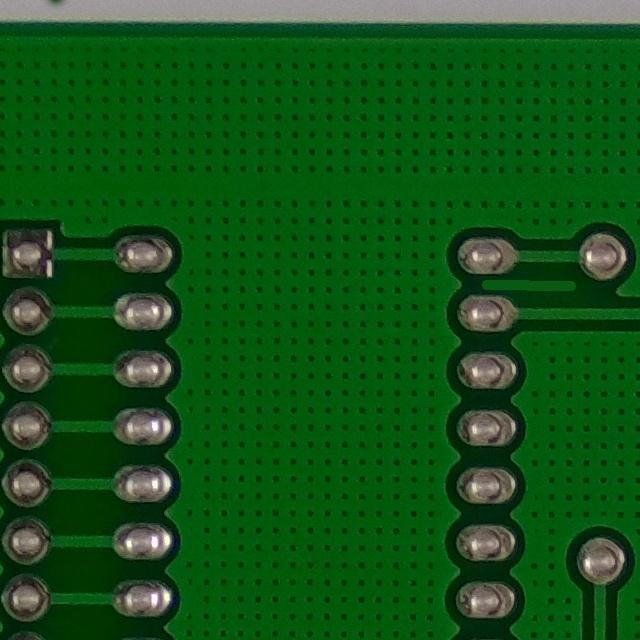spurious_copper: (473, 269, 585, 304)
